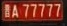A: (12, 5, 18, 17)
